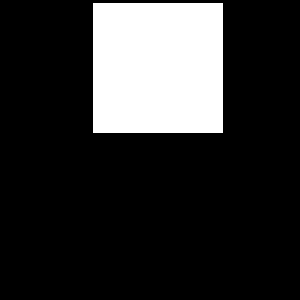circle: (93, 3, 223, 133)
